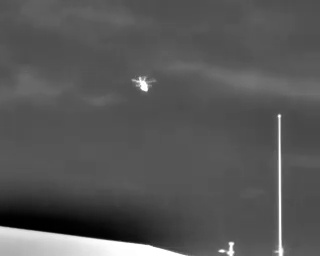HELICOPTER: (128, 70, 163, 99)
